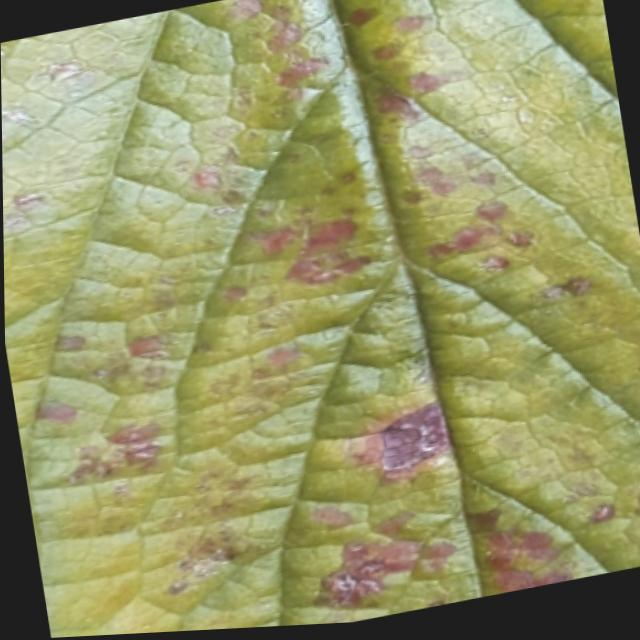Angular Leafspot: (0, 0, 640, 638)
